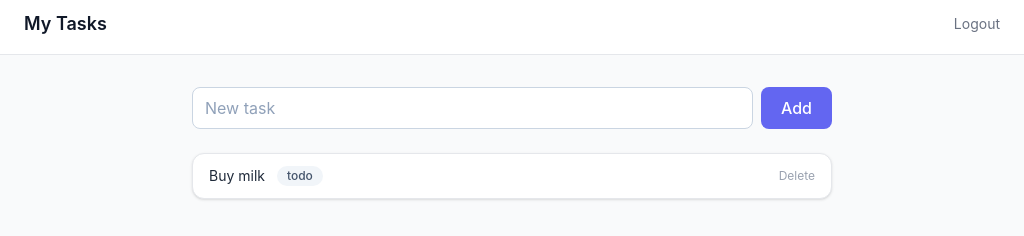
Test: should_remove_task_after_delete
Expected: the text "Buy milk" is shown, [209,166,265,186]
Click the button "Delete" at x=797, y=176, box [779,168,815,184]
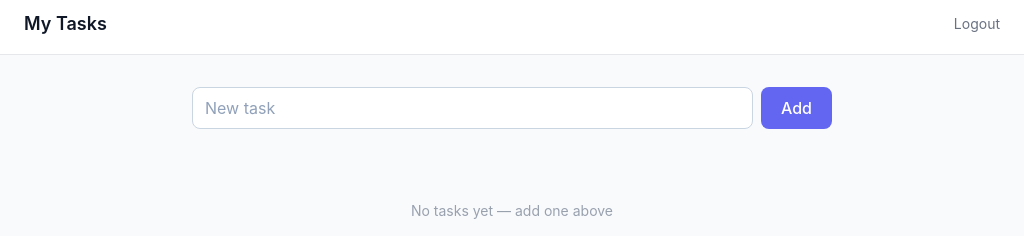
Result: the text "Buy milk" is gone
